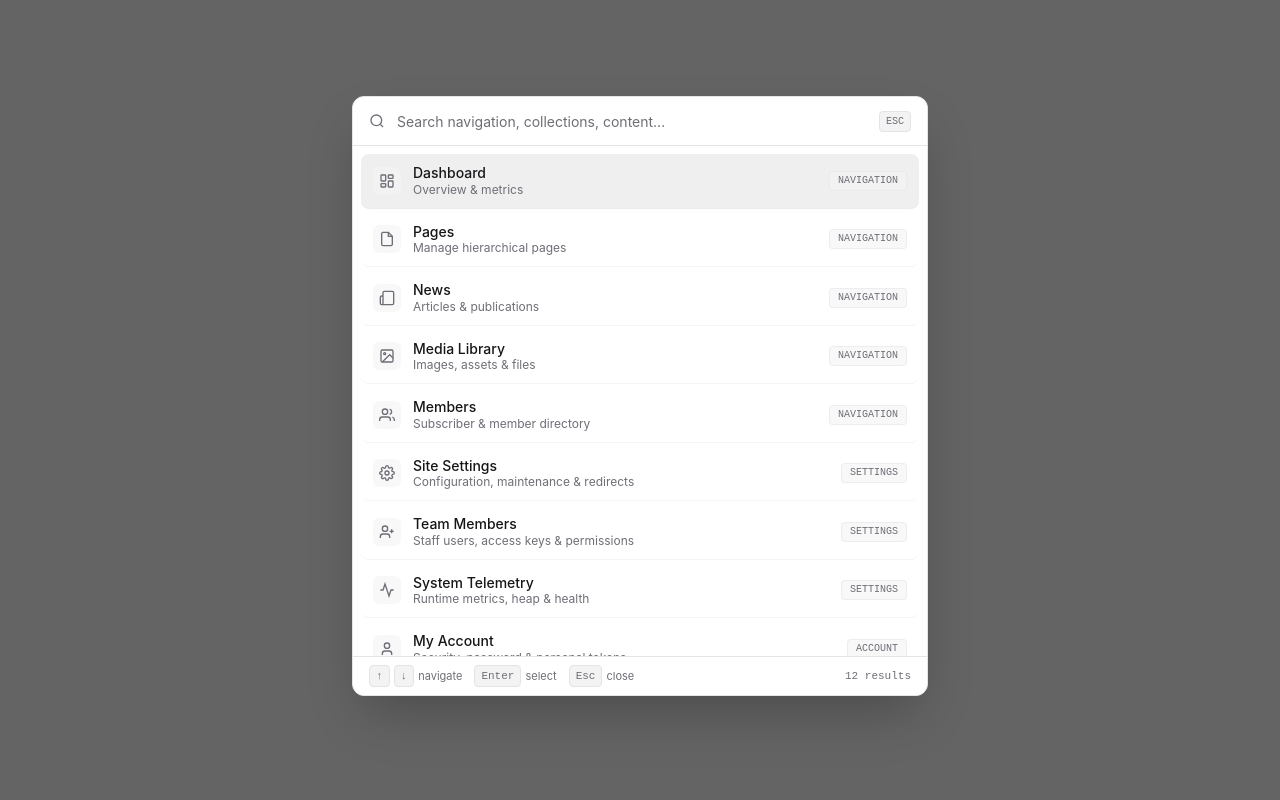
SearchCommandModal › shows a no-results message when nothing matches
Type "zzzznothingmatchesz" into the field with placeholder "Search navigation, collections, content..." at (632, 121), box [397,97,867,145]
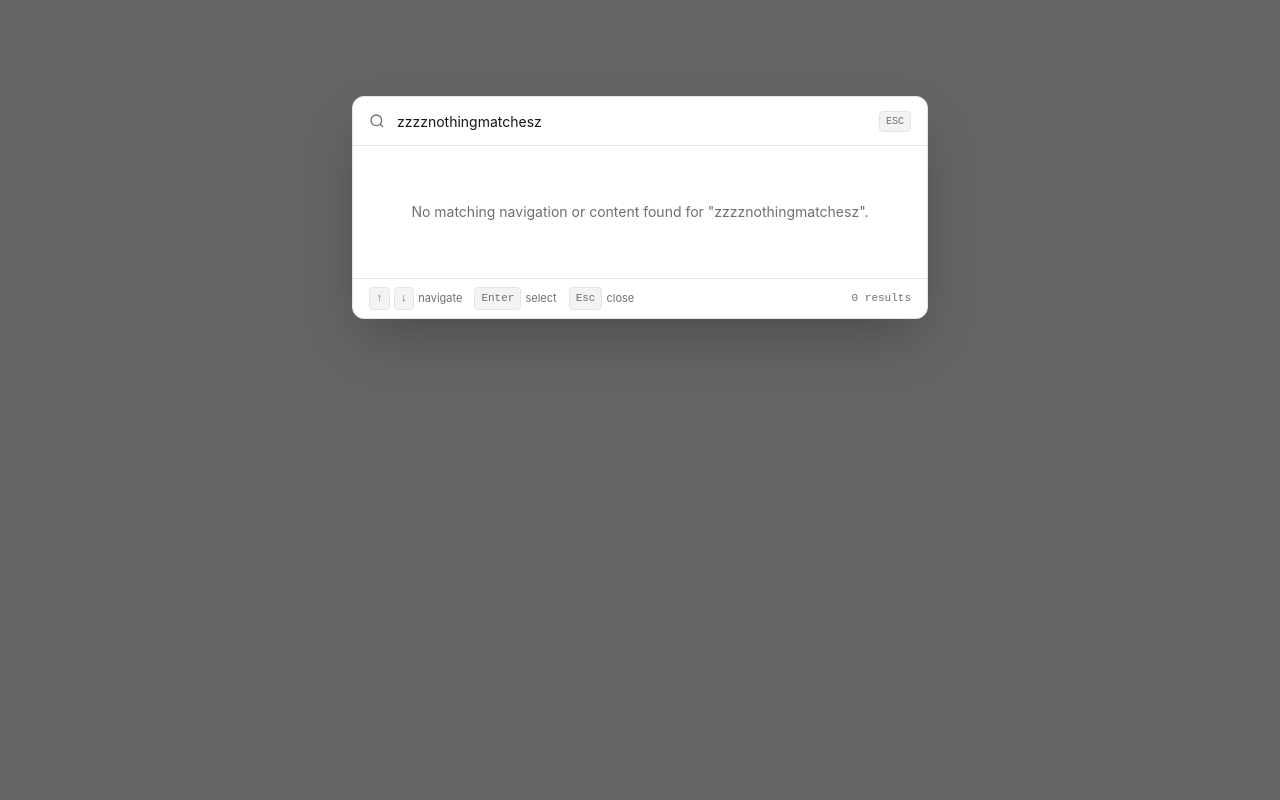
Result: the button "Dashboard" is gone
